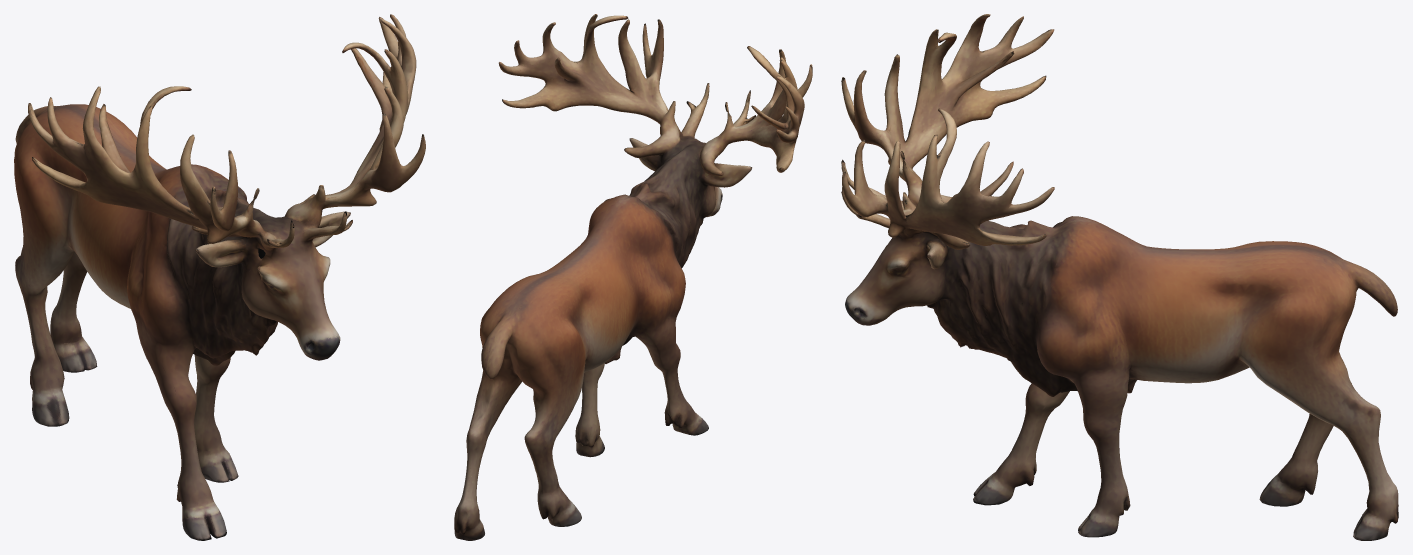
3 views of the same model, side by side, from view 1: azimuth 30°, elevation 25°; view 2: azimuth 150°, elevation 25°; view 3: azimuth 270°, elevation 25° (orthographic). The views are drawn at different scales.
Parts seen in each view (by area): view 1: world; view 2: world; view 3: world.
Part boxes in pixels (x1,y1,x2,y2): world: (14, 14, 425, 540); world: (454, 14, 812, 540); world: (841, 14, 1398, 540).
Size of the model in its own units: 2.28 by 2.88 by 3.3.
1 material, 1 textured.
